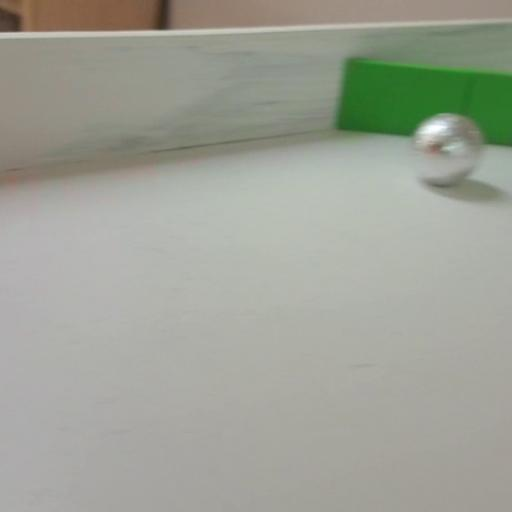alive: (410, 112, 484, 186)
